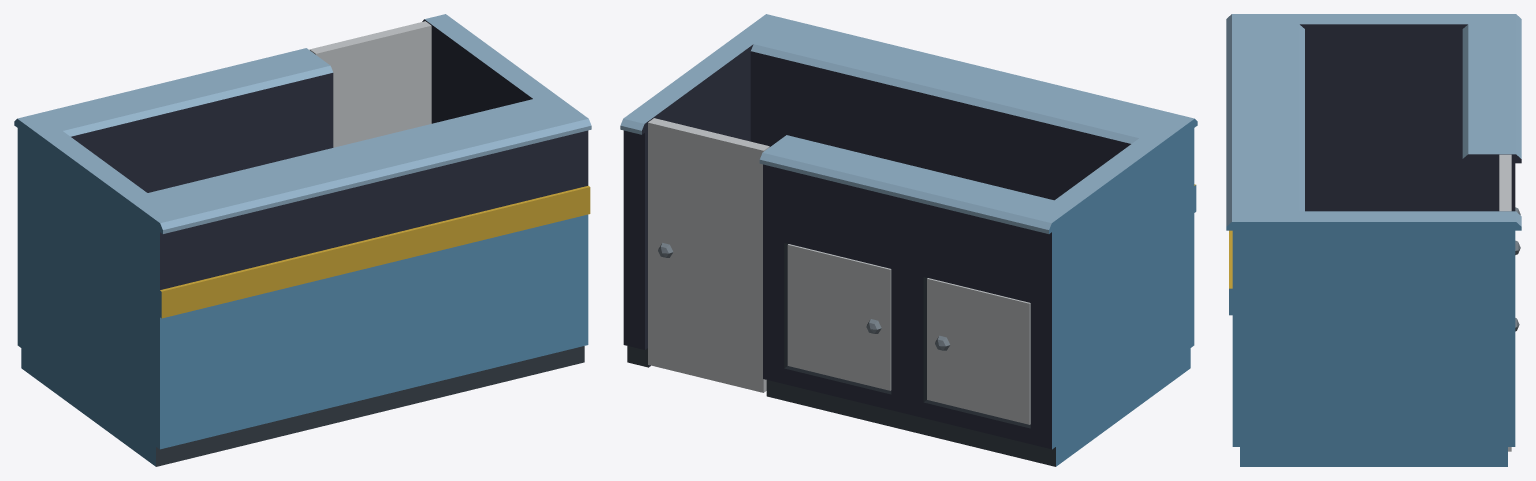
Rendered from reception-desk-3d6913.glb.
The picture shows the model from 3 angles, left to right: view 1: azimuth 30°, elevation 25°; view 2: azimuth 150°, elevation 25°; view 3: azimuth 270°, elevation 25°; orthographic projection.
Parts seen in each view (by area): view 1: desk, gate; view 2: desk, gate, door-r, door-l; view 3: desk, gate.
Part boxes in pixels (x1=…): desk: x1=14, y1=14, x2=591, y2=466; gate: x1=309, y1=21, x2=431, y2=147; desk: x1=620, y1=14, x2=1197, y2=466; gate: x1=648, y1=118, x2=769, y2=392; door-r: x1=787, y1=244, x2=891, y2=390; door-l: x1=927, y1=278, x2=1030, y2=424; desk: x1=1226, y1=14, x2=1521, y2=466; gate: x1=1499, y1=154, x2=1519, y2=451.
Bounding box in the file's own units: 2 × 1.1 × 1.2.
